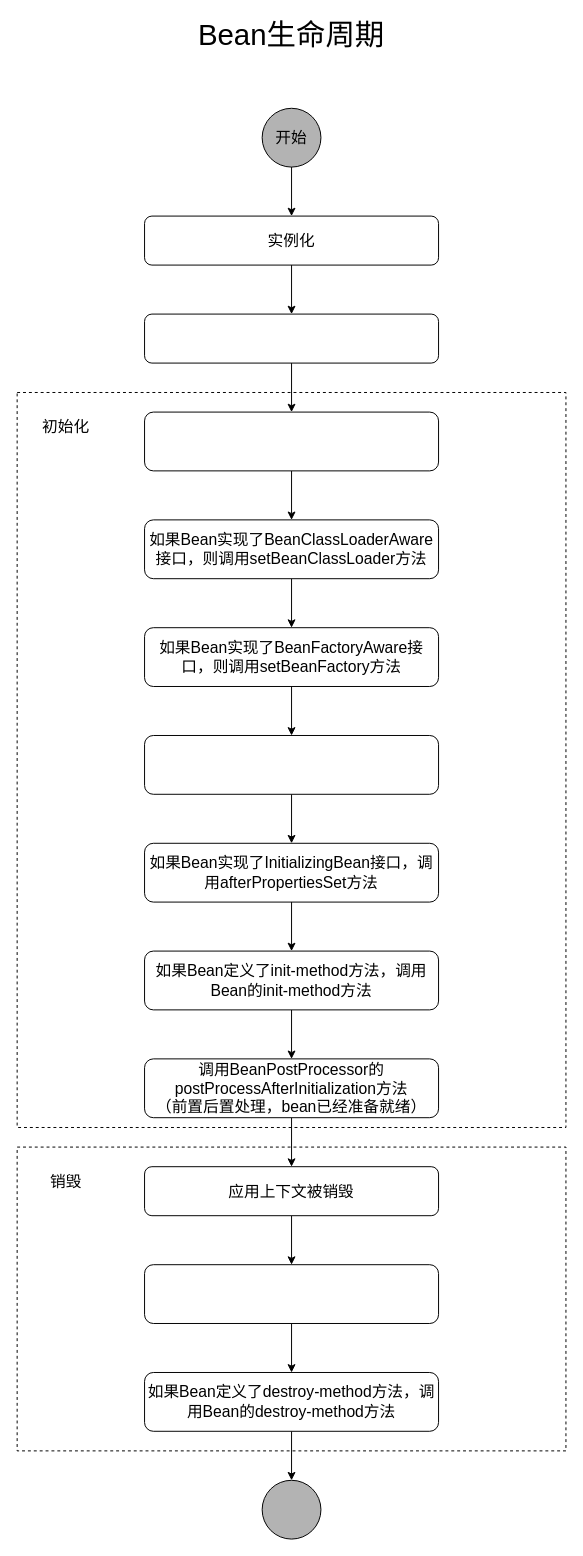
Some shapes in this 583 by 1556 pixel diagram are drawn without their labels. Each missing label, with the box of its shape:
填充属性: (144, 313, 439, 363)
如果Bean实现了BeanNameAware接口，则调用setBeanName方法: (144, 411, 439, 471)
如果Bean实现了DisposableBean接口，调用destroy方法: (144, 1264, 439, 1323)
结束: (261, 1479, 321, 1539)
调用BeanPostProcessor的postProcessBeforeInitialization方法 （前置处理）: (144, 735, 439, 794)
